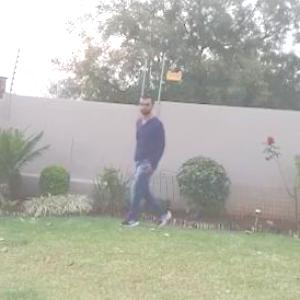follow: (126, 90, 176, 232)
